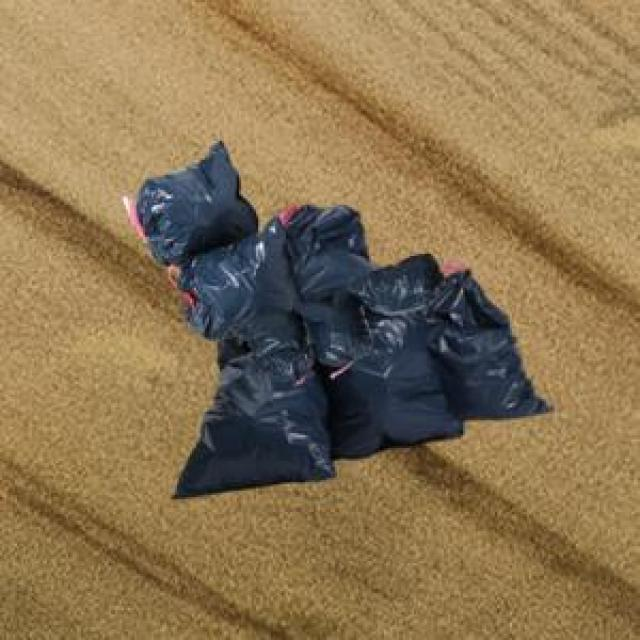waste: (125, 141, 549, 497)
